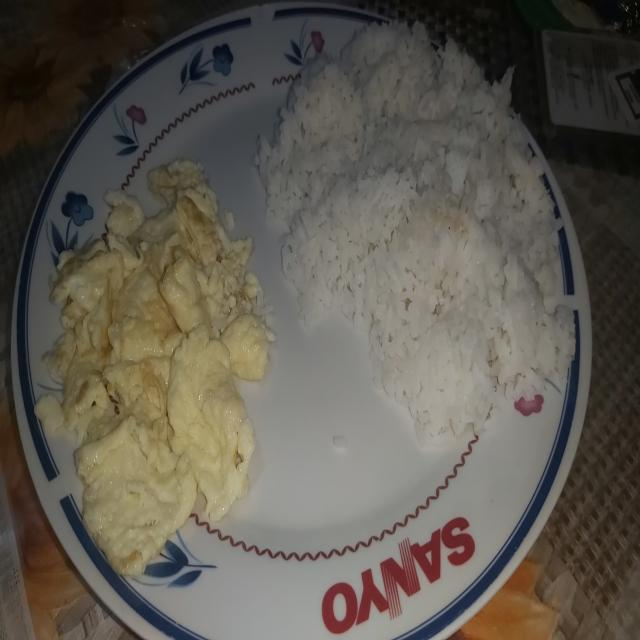Chicken -Chicken Inasal-: (266, 14, 554, 404)
